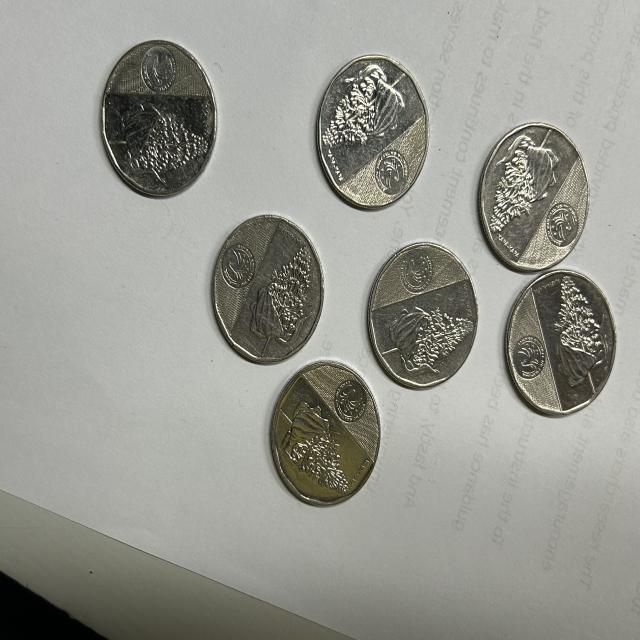10_New_Back: (269, 374, 349, 504), (544, 276, 614, 412), (104, 88, 192, 187), (253, 219, 317, 351), (491, 125, 552, 258), (382, 300, 483, 374), (324, 66, 407, 154)
